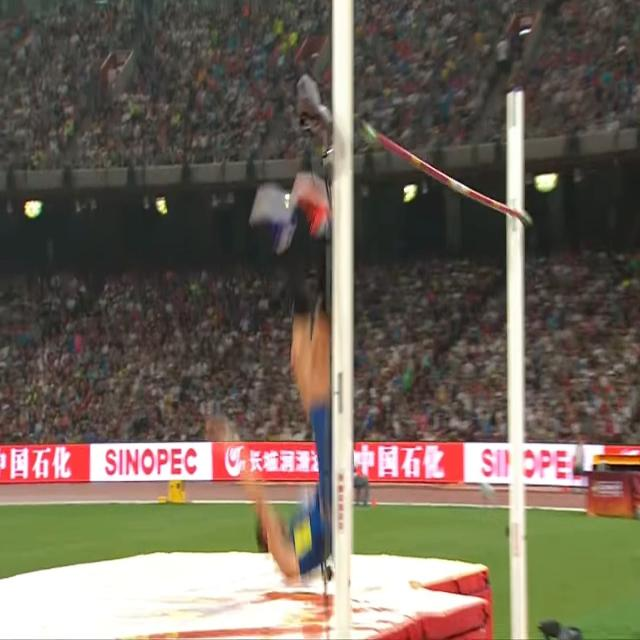land: (249, 171, 331, 578)
